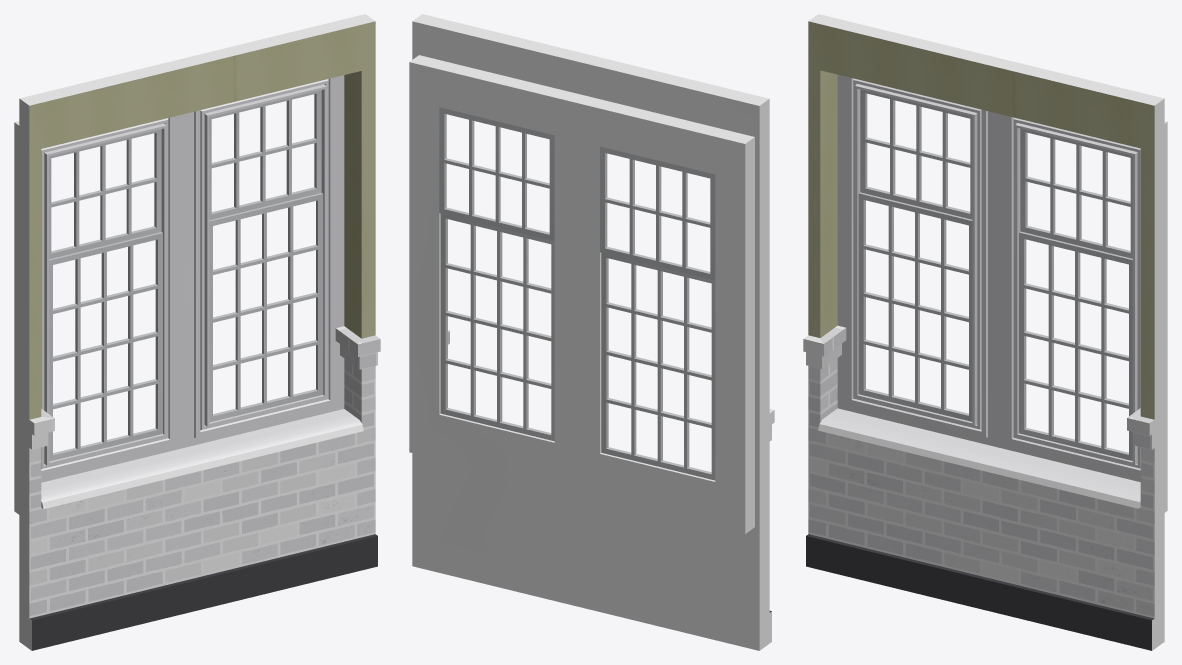
File: SM_Buildings_WallWindowDouble_2x3_01.fbx
3 renders of one model, left to right at view 1: azimuth 30°, elevation 25°; view 2: azimuth 150°, elevation 25°; view 3: azimuth 330°, elevation 25°, orthographic.
Visible parts, largest first — view 1: SM_Buildings_WallWindowDouble_2x3_01; view 2: SM_Buildings_WallWindowDouble_2x3_01; view 3: SM_Buildings_WallWindowDouble_2x3_01.
Part boxes in pixels (box(x1,y1,x2,y2)): SM_Buildings_WallWindowDouble_2x3_01: box(14, 14, 380, 650); SM_Buildings_WallWindowDouble_2x3_01: box(409, 14, 774, 650); SM_Buildings_WallWindowDouble_2x3_01: box(803, 14, 1167, 650).
Size of the model in its own units: 200 by 300 by 24.64.
1 material, 1 textured.
